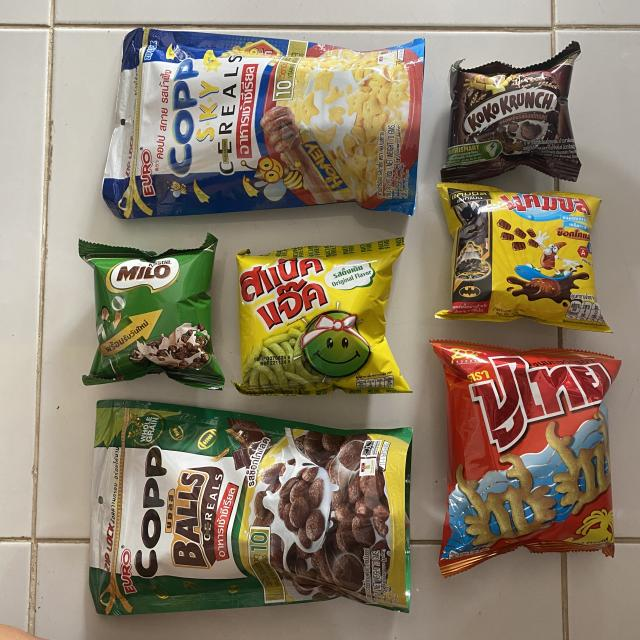plastik: (90, 400, 411, 615), (102, 29, 425, 218), (432, 341, 620, 578), (235, 238, 410, 395), (436, 182, 610, 332), (79, 234, 224, 390), (441, 41, 580, 182)
